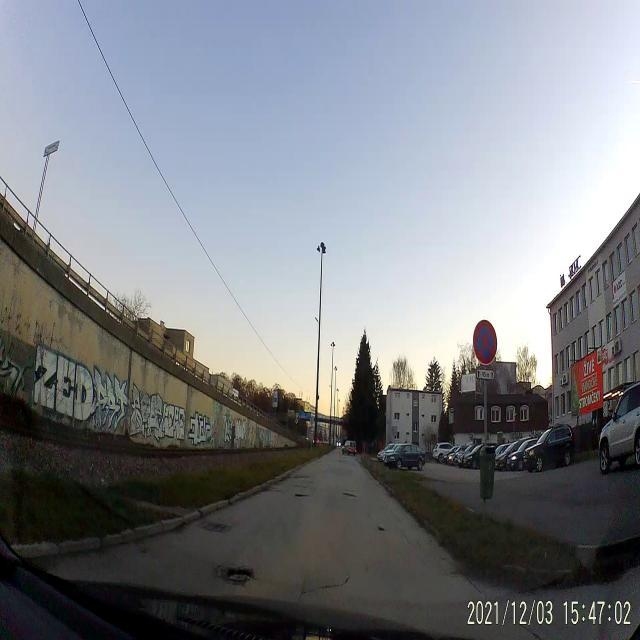Pothole: (222, 560, 258, 589), (198, 518, 230, 536), (261, 485, 283, 497), (292, 471, 312, 483), (294, 492, 312, 500), (343, 489, 359, 498), (376, 523, 386, 536)
